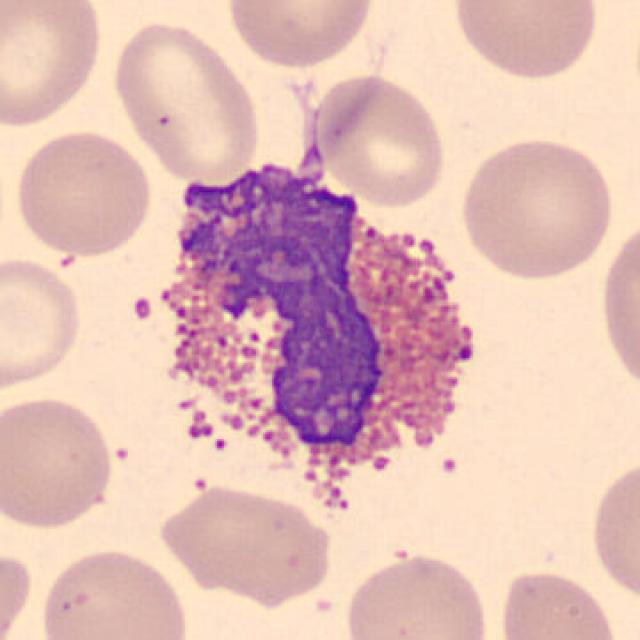Eosinophil: (133, 143, 494, 513)
RBC: (107, 16, 265, 185), (455, 130, 617, 284), (153, 480, 336, 604), (309, 70, 450, 210), (10, 127, 154, 259), (0, 391, 117, 532), (37, 543, 192, 640), (0, 0, 107, 132), (340, 550, 494, 640), (448, 0, 604, 83), (0, 254, 87, 397), (222, 0, 379, 71), (494, 566, 624, 640), (594, 212, 640, 398), (586, 453, 640, 606), (0, 546, 37, 640)
